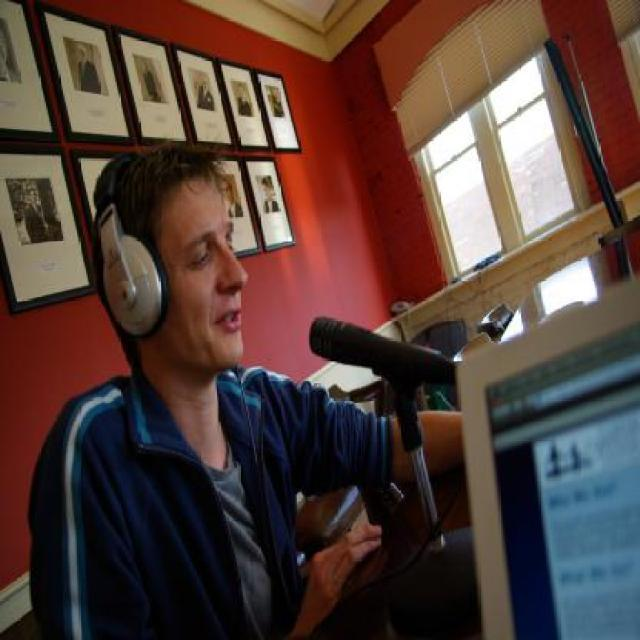earphone: (83, 152, 162, 343)
laptop_computer: (433, 286, 640, 639)
